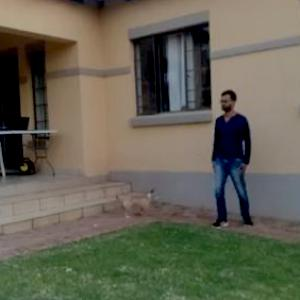follow: (206, 86, 254, 231)
